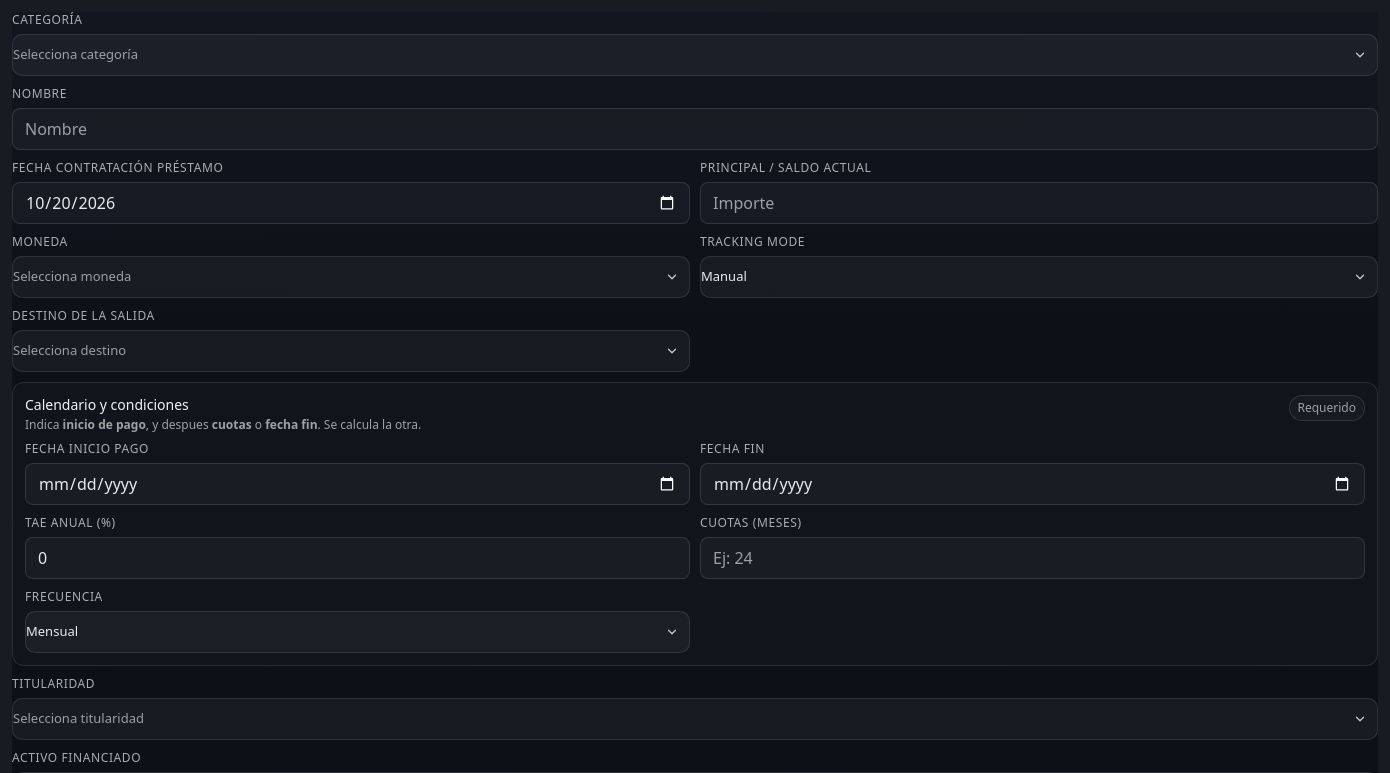
ItemForm (core) › links term months and expected end date for liabilities
Step 1. Type "2024-09-05" into the date field labelled "Fecha contratación préstamo" → (351, 203), box [12,182,690,224]
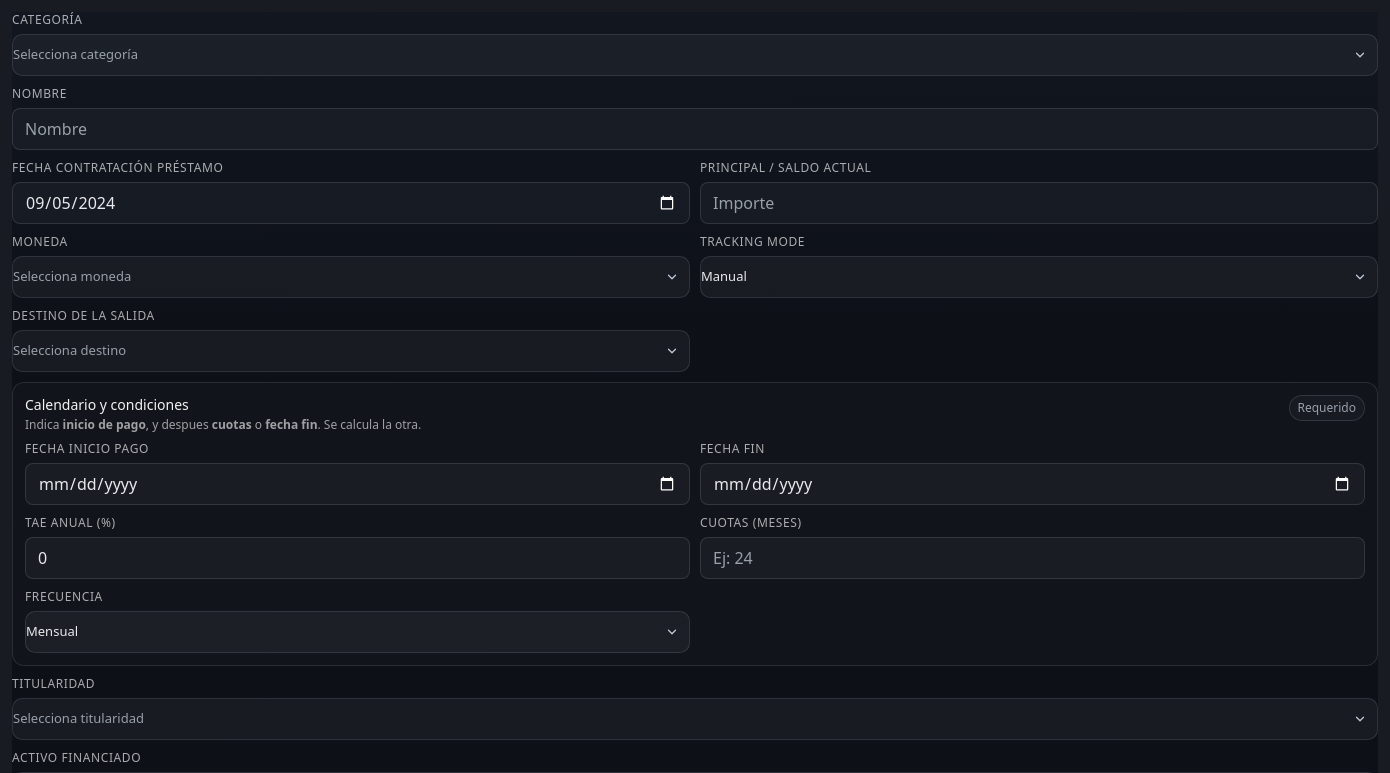
Step 2. Type "24" into the field with placeholder "Ej: 24" → (1032, 558), box [700,537,1365,579]
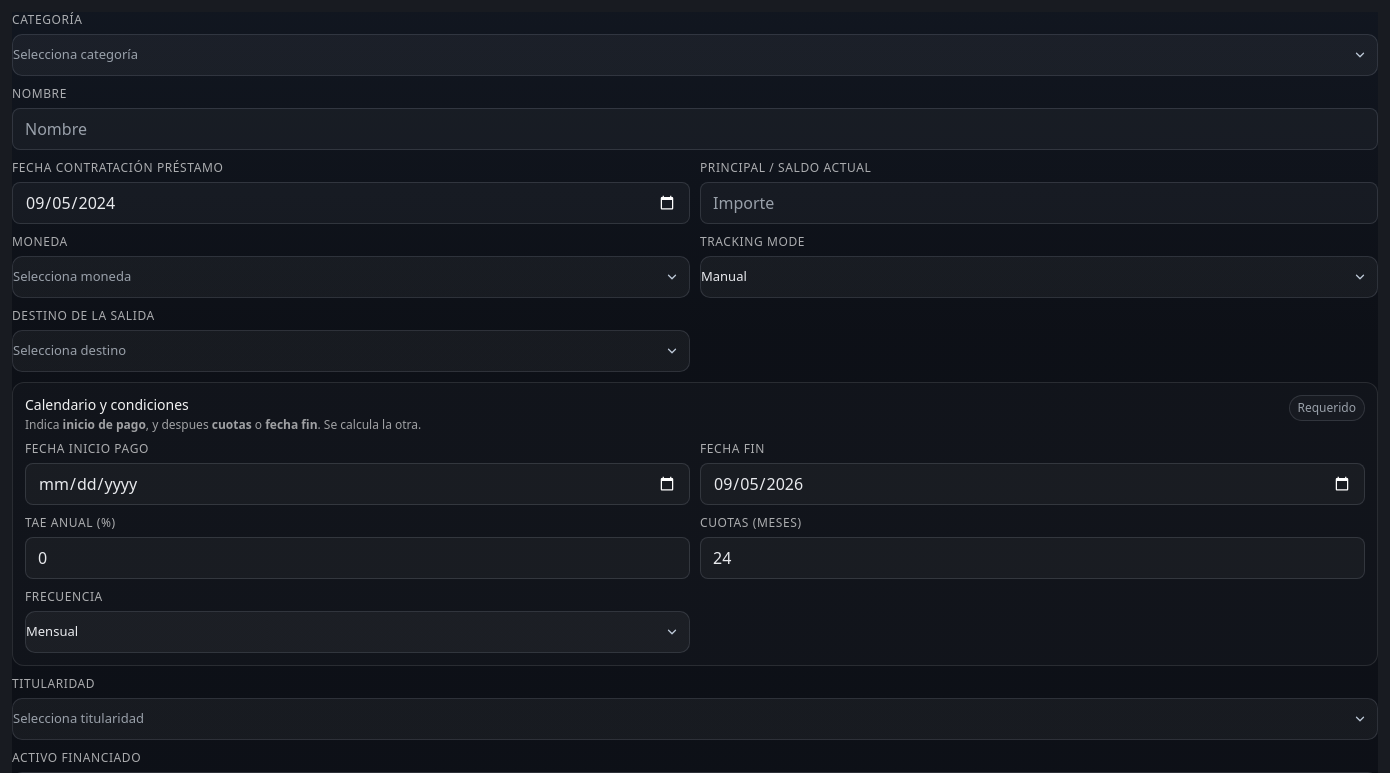
Check: the date field labelled "Fecha fin" holds "2026-09-05", box [700,463,1365,505]
